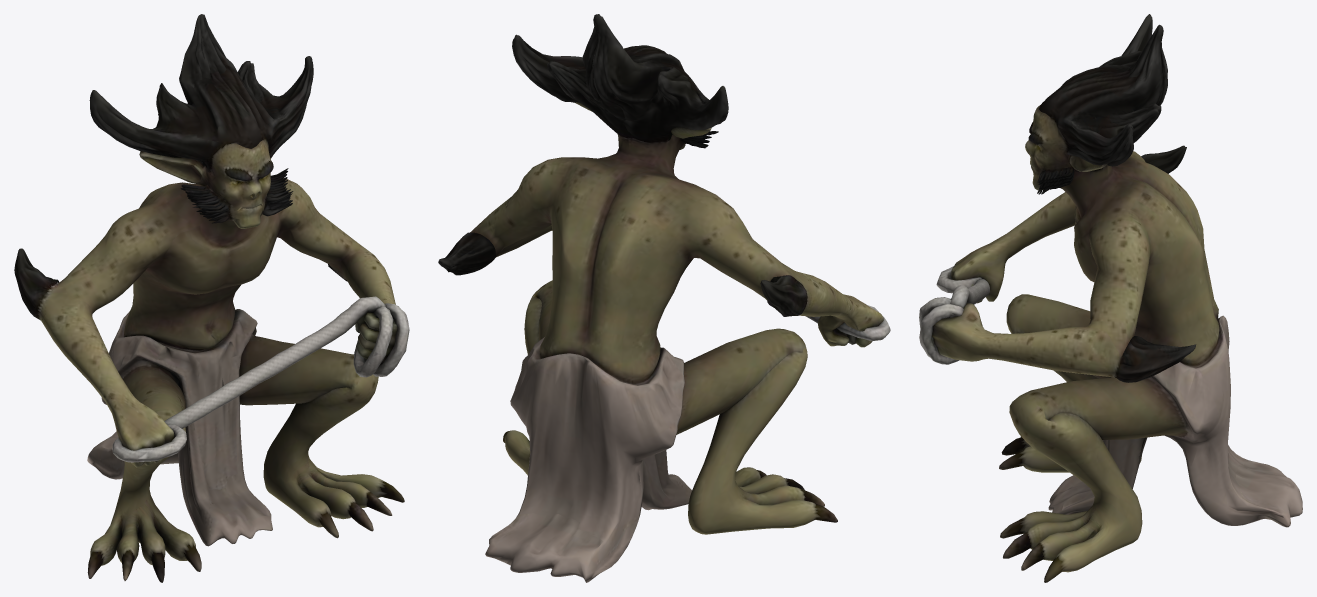
The model's file is MZ4250 - Meazel.glb.
The picture shows the model from 3 angles, left to right: view 1: azimuth 30°, elevation 25°; view 2: azimuth 150°, elevation 25°; view 3: azimuth 270°, elevation 25°; orthographic projection. The views are drawn at different scales.
Parts seen in each view (by area): view 1: Torus.001; view 2: Torus.001; view 3: Torus.001.
Part boxes in pixels (<box>): Torus.001: <box>14,14,409,582</box>; Torus.001: <box>438,14,890,582</box>; Torus.001: <box>919,14,1302,582</box>.
Bounding box in the file's own units: 0.571 × 0.7909 × 0.5606.
1 material, 1 textured.
